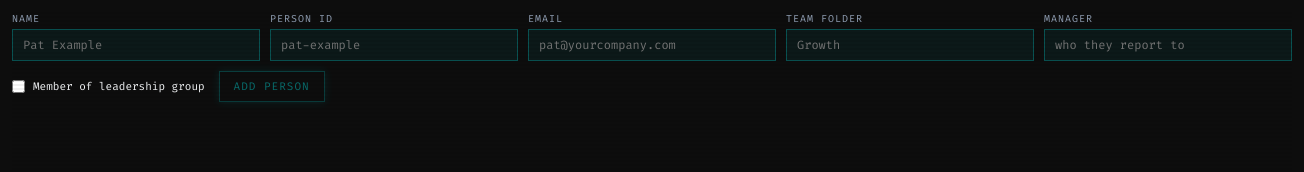
it: a duplicate id shows the backend conflict message
The width and height of the screenshot is (1304, 172).
Type "Sam" into the field labelled "Name" at [136, 45], box [12, 29, 260, 61]
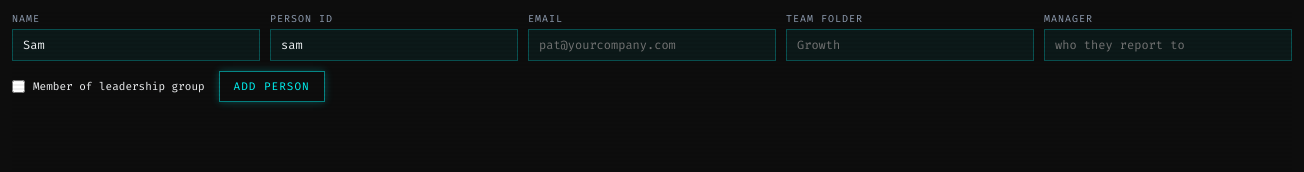
Click the button "Add person" at [272, 86], box [219, 71, 325, 102]
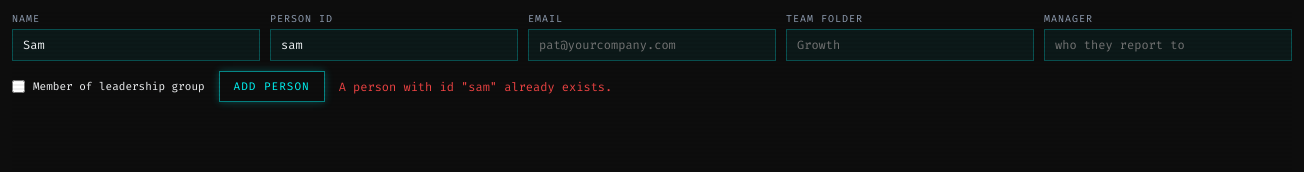
Expected: the text "A person with id \"sam\" already exists." is shown, [339, 78, 612, 94]
